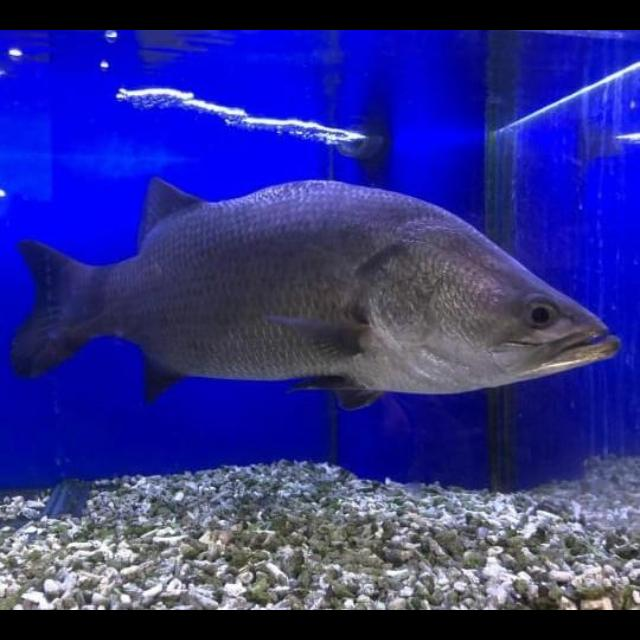Seabass: (12, 172, 622, 410)
